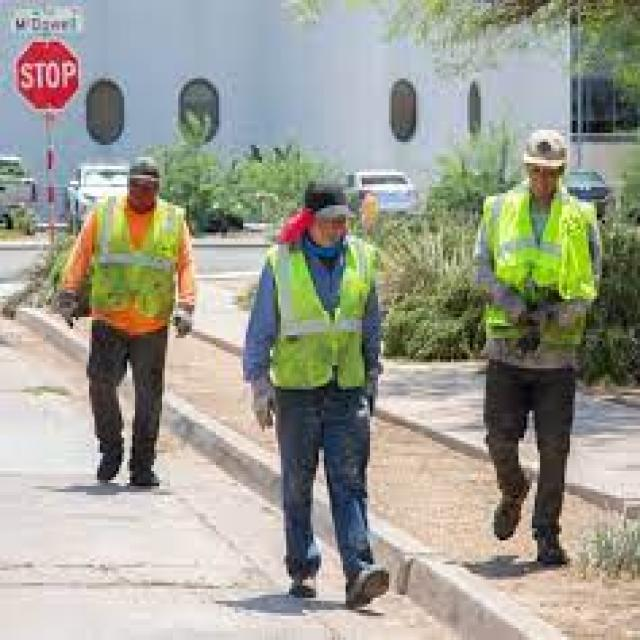Reflective-Jacket: (462, 184, 616, 368), (246, 236, 402, 404), (67, 193, 200, 347)
Safety-Helmet: (511, 121, 584, 181), (116, 145, 170, 193)
